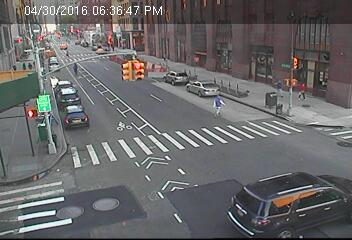neg: (93, 136, 132, 187), (305, 145, 338, 189), (26, 154, 57, 195), (180, 10, 210, 49), (220, 164, 249, 202), (159, 140, 185, 176), (325, 24, 350, 58), (318, 103, 341, 135), (235, 57, 258, 87), (93, 66, 116, 95), (240, 118, 260, 144), (149, 86, 168, 112), (262, 33, 279, 56), (138, 41, 154, 62), (104, 38, 116, 54), (87, 37, 98, 53)
pos: (208, 92, 229, 120), (290, 73, 311, 101), (274, 79, 294, 106), (9, 62, 22, 80), (18, 59, 27, 71), (28, 58, 35, 67)
